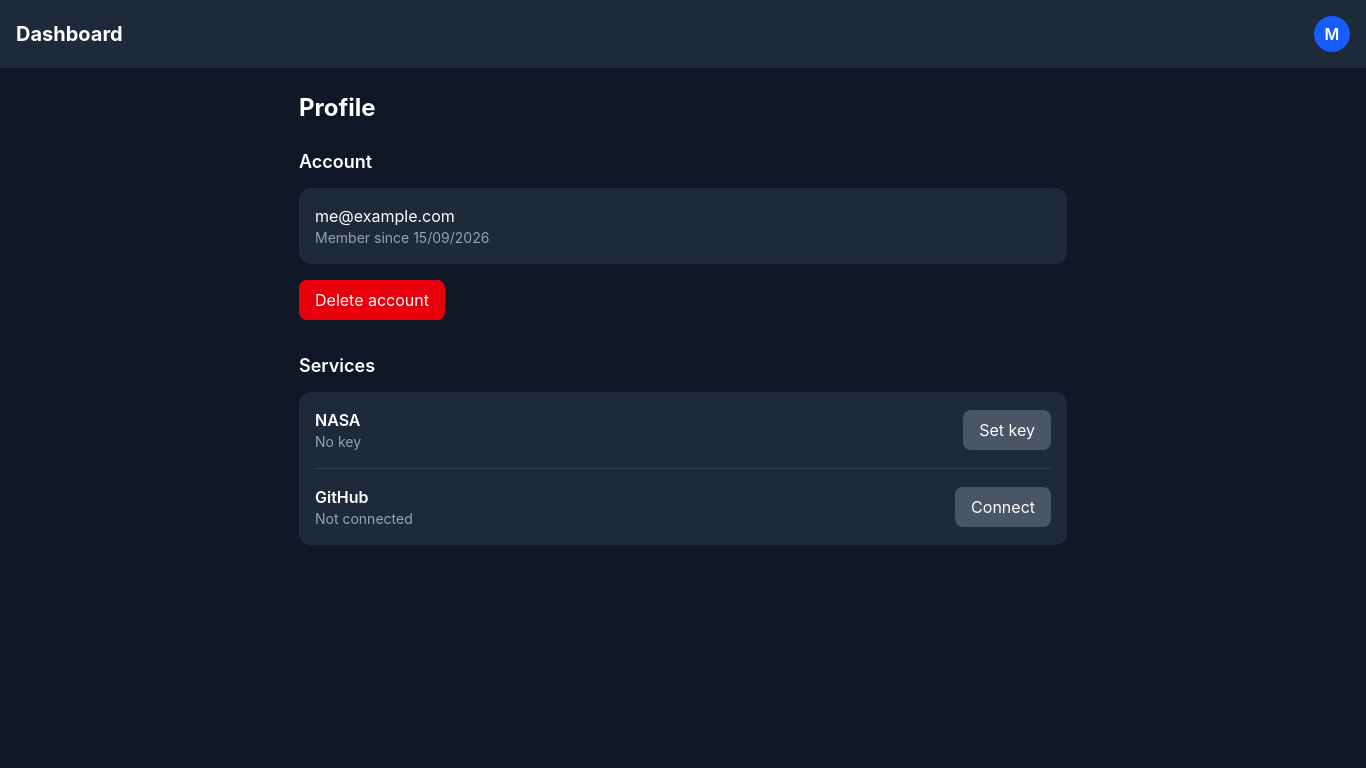
Test: Account: deleting the account › Cancel closes the dialog and deletes nothing
The width and height of the screenshot is (1366, 768).
Click the button "Delete account": {"x": 372, "y": 300} [299, 280, 445, 320]
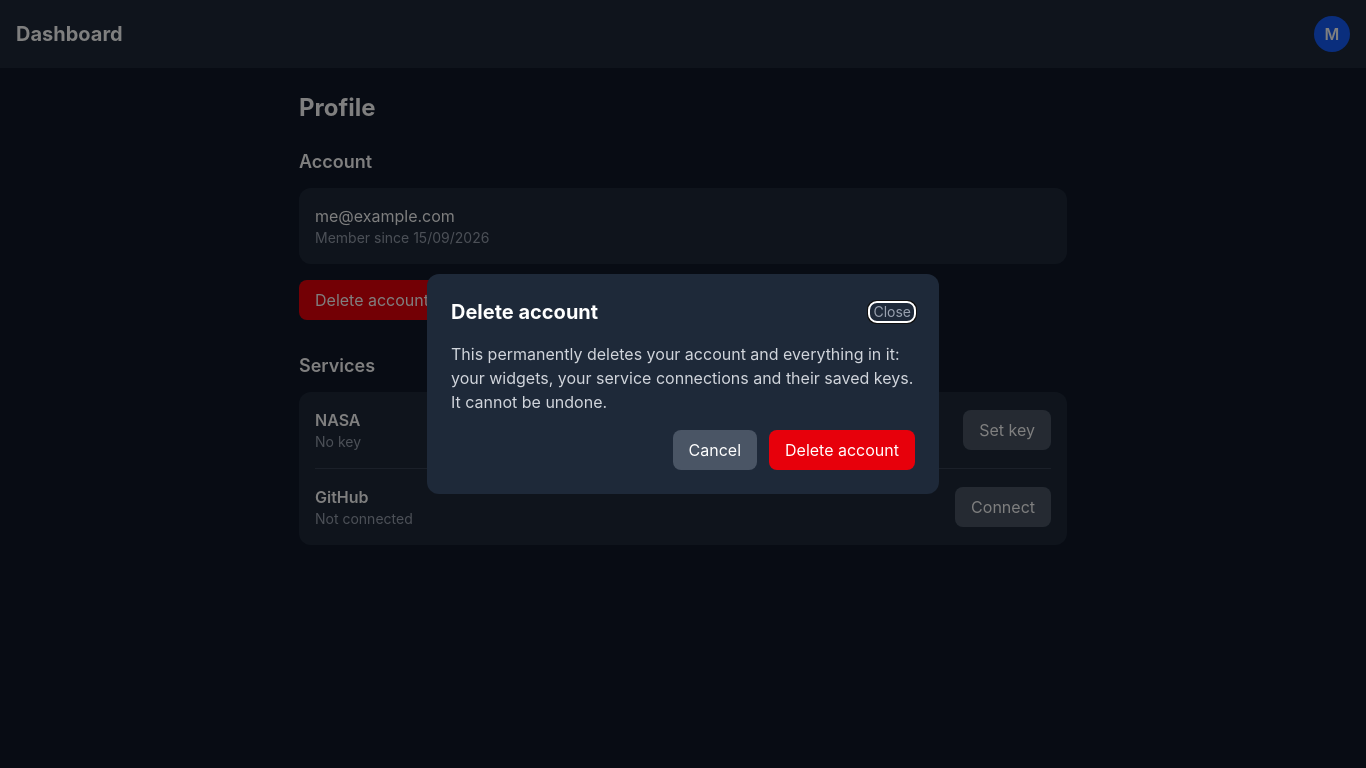
Click the button "Cancel": {"x": 715, "y": 450} [672, 430, 757, 470]
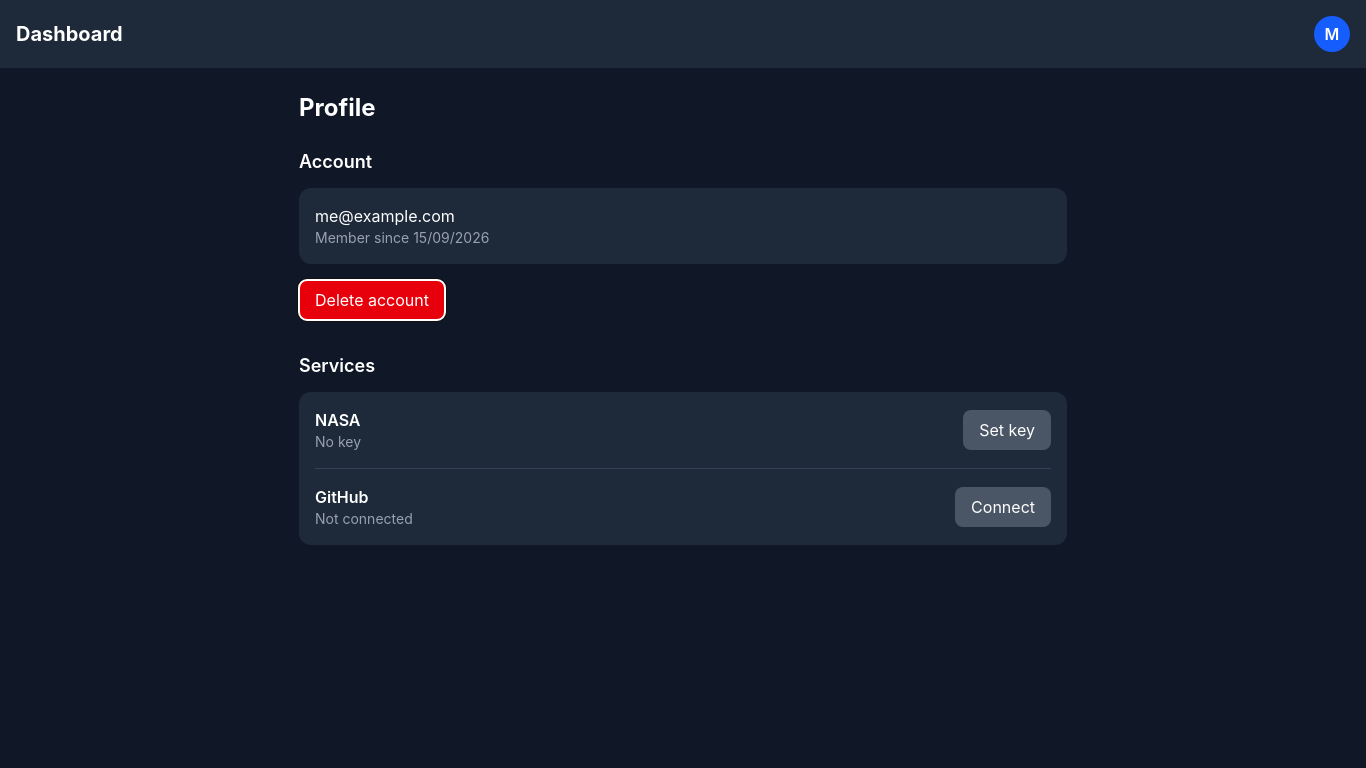
Check: the dialog is gone
